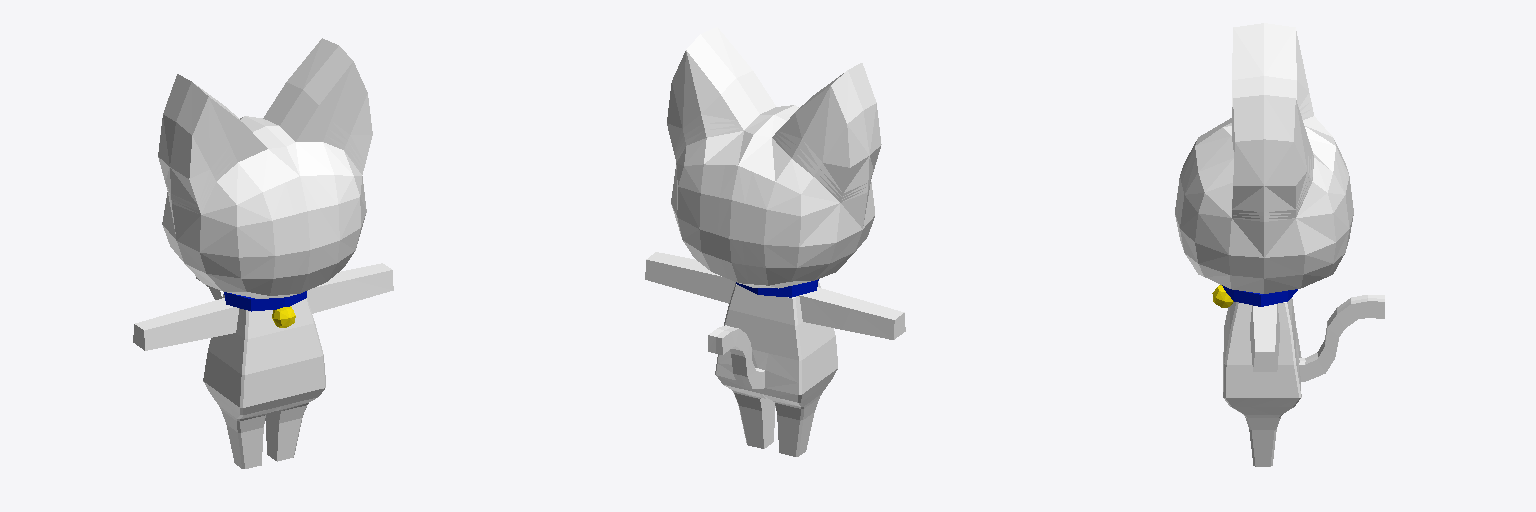
The picture shows the model from 3 angles: view 1: azimuth 30°, elevation 25°; view 2: azimuth 150°, elevation 25°; view 3: azimuth 270°, elevation 25°; orthographic projection.
Visible parts, largest first — view 1: Head_Head, Body_Body, Collar_Collar; view 2: Head_Head, Body_Body, Collar_Collar; view 3: Head_Head, Body_Body, Collar_Collar.
Boxes of the visible parts, x1,y1,x2,y2 form: Head_Head: [158, 38, 372, 298]; Body_Body: [133, 263, 393, 468]; Collar_Collar: [224, 291, 306, 327]; Head_Head: [667, 27, 881, 288]; Body_Body: [645, 252, 905, 456]; Collar_Collar: [736, 279, 818, 297]; Head_Head: [1175, 23, 1353, 293]; Body_Body: [1223, 295, 1384, 466]; Collar_Collar: [1212, 285, 1297, 307].
Bounding box in the file's own units: 1.99 × 3.03 × 1.46.
3 materials, 1 textured.